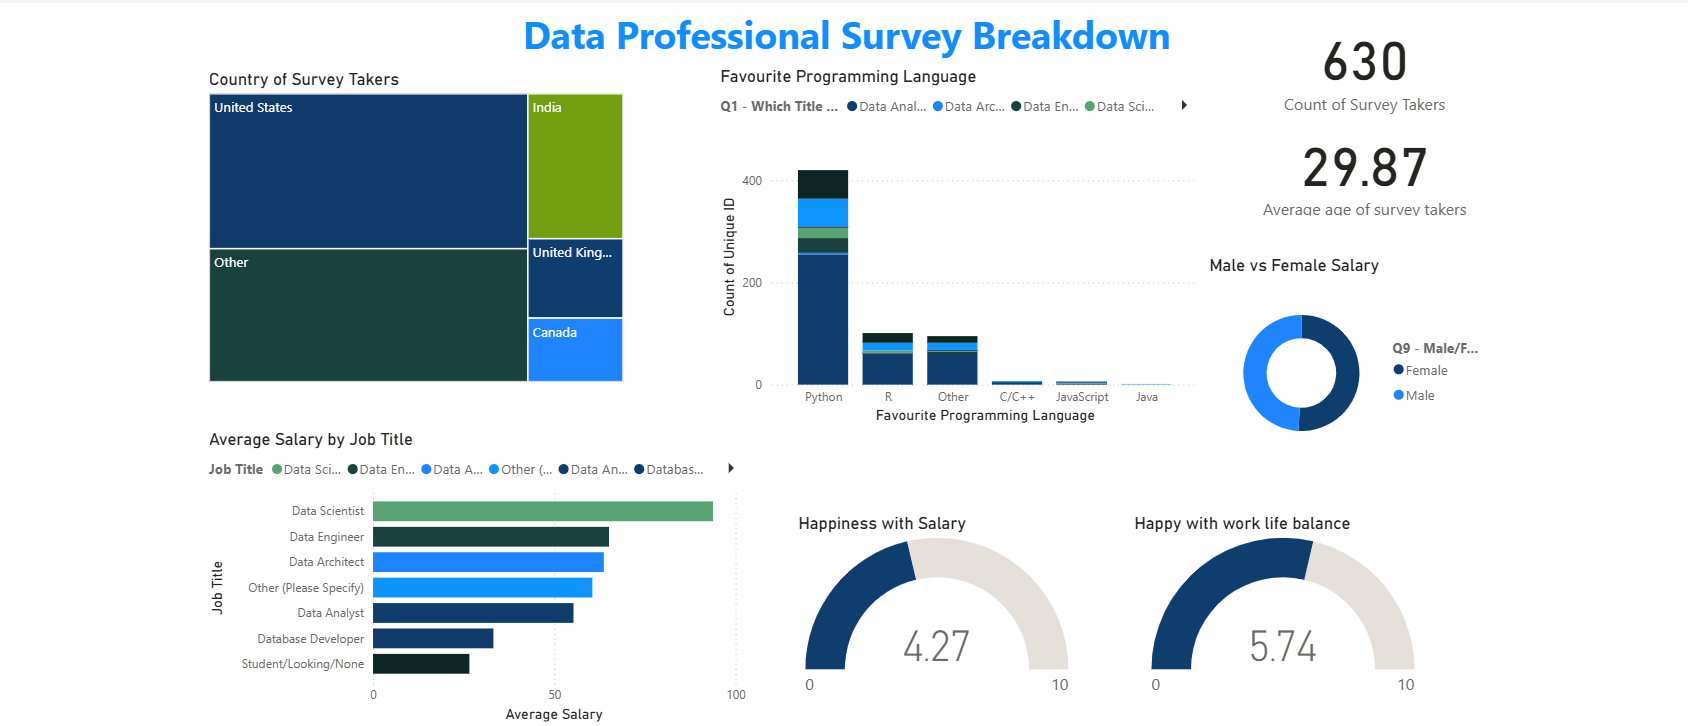

Layout of this report page (visuals, bound fields, positions):
{"tool":"powerbi","page":{"name":"Page 1","canvas":[1280,720],"ordinal":0},"visuals":[{"type":"textbox","box":[0,0,1280,66],"z":0},{"type":"card","fields":{"Values":["CountNonNull(Data Professional Survey.Unique ID)"]},"box":[1064,8,184,108],"z":1000},{"type":"card","fields":{"Values":["Avg(Data Professional Survey.Q10 - Current Age)"]},"box":[1046,116,220,100],"z":2000},{"type":"barChart","title":"Average Salary by Job Title","fields":{"Category":["Data Professional Survey.Q1 - Which Title Best Fits your Current Role?.1"],"Y":["Avg(Data Professional Survey.Average Salary)"],"Series":["Data Professional Survey.Q1 - Which Title Best Fits your Current Role?.1"]},"box":[0,424,544,296],"z":3000},{"type":"columnChart","title":"Favourite Programming Language","fields":{"Category":["Data Professional Survey.Q5 - Favorite Programming Language.1"],"Y":["CountNonNull(Data Professional Survey.Unique ID)"],"Series":["Data Professional Survey.Q1 - Which Title Best Fits your Current Role?.1"]},"box":[510,62,486,360],"z":4000},{"type":"treemap","title":"Country of Survey Takers","fields":{"Group":["Data Professional Survey.Q11 - Which Country do you live in?.1"],"Values":["CountNonNull(Data Professional Survey.Q11 - Which Country do you live in?.1)"]},"box":[0,66,422,316],"z":6000},{"type":"gauge","title":"Happy with work life balance","fields":{"Y":["Avg(Data Professional Survey.Q6 - How Happy are you in your Current Position with the following? (Work/Life Balance))"],"MinValue":["Min(Data Professional Survey.Q6 - How Happy are you in your Current Position with the following? (Work/Life Balance))1"],"MaxValue":["Max(Data Professional Survey.Q6 - How Happy are you in your Current Position with the following? (Work/Life Balance))2"]},"box":[921.7,508.3,305,191.7],"z":7000},{"type":"gauge","title":"Happiness with Salary","fields":{"Y":["Avg(Data Professional Survey.Q6 - How Happy are you in your Current Position with the following? (Salary))"],"MinValue":["Min(Data Professional Survey.Q6 - How Happy are you in your Current Position with the following? (Salary))"],"MaxValue":["Max(Data Professional Survey.Q6 - How Happy are you in your Current Position with the following? (Salary))"]},"box":[586.7,508.3,285,191.7],"z":8000},{"type":"donutChart","title":"Male vs Female Salary","fields":{"Y":["Avg(Data Professional Survey.Average Salary)"],"Category":["Data Professional Survey.Q9 - Male/Female?"]},"box":[996.7,251.7,283.3,215],"z":9000}]}

Visuals, with their boxes on the page's 1280x720 design canvas (x1, y1, x2, y2). These are canvas units, not pixel positions in the 1688x726 screenshot, which may show the page scaled, cropped or inside an application window:
textbox: bbox(0, 0, 1280, 66)
card - CountNonNull(Data Professional Survey.Unique ID): bbox(1064, 8, 1248, 116)
card - Avg(Data Professional Survey.Q10 - Current Age): bbox(1046, 116, 1266, 216)
"Average Salary by Job Title" barChart: bbox(0, 424, 544, 720)
"Favourite Programming Language" columnChart: bbox(510, 62, 996, 422)
"Country of Survey Takers" treemap: bbox(0, 66, 422, 382)
"Happy with work life balance" gauge: bbox(922, 508, 1227, 700)
"Happiness with Salary" gauge: bbox(587, 508, 872, 700)
"Male vs Female Salary" donutChart: bbox(997, 252, 1280, 467)
